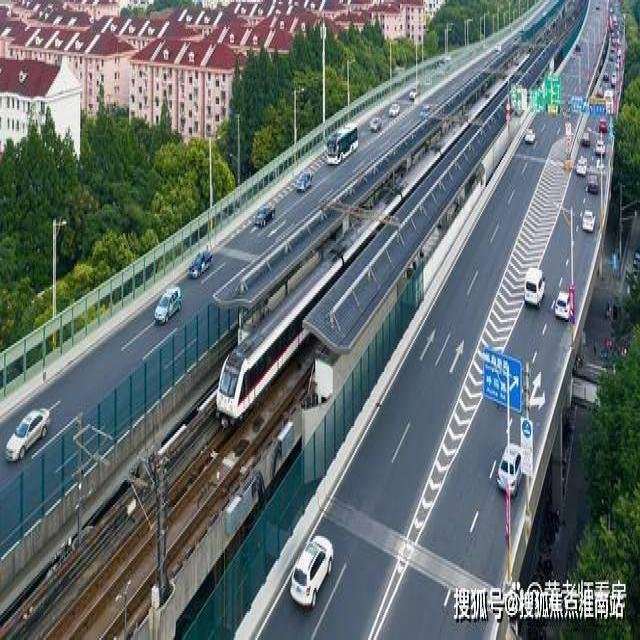point: (572, 0, 632, 67)
